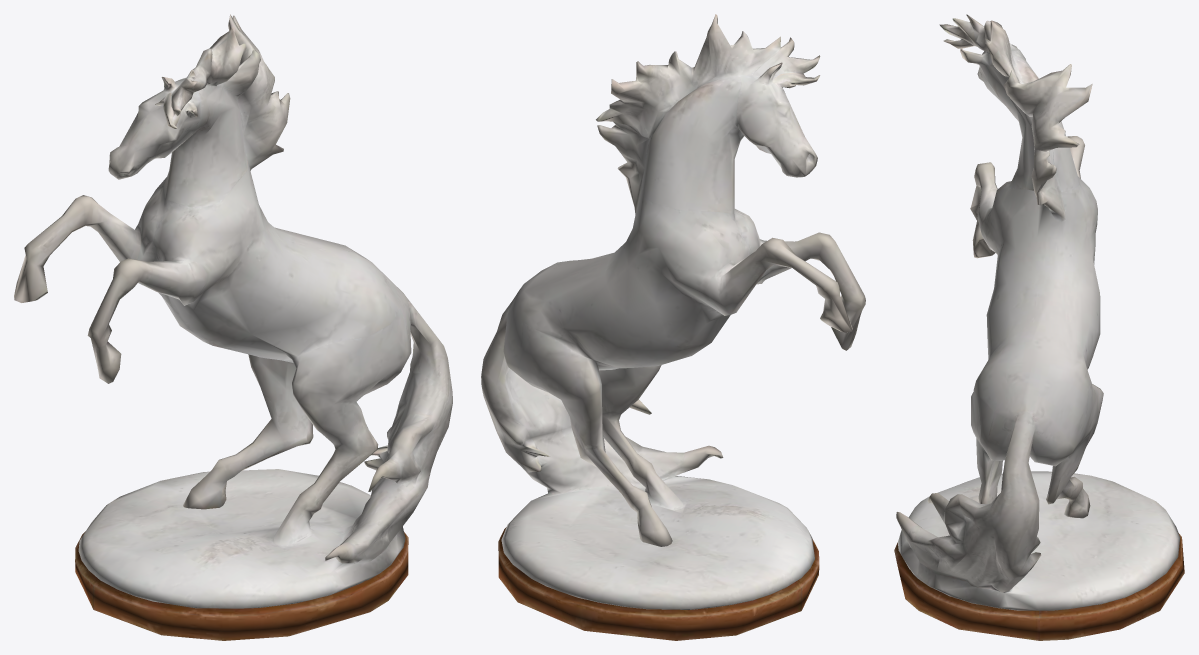
File: ph_horse_statue_01.glb
The picture shows the model from 3 angles, left to right: view 1: azimuth 30°, elevation 25°; view 2: azimuth 150°, elevation 25°; view 3: azimuth 270°, elevation 25°; orthographic projection. The views are drawn at different scales.
Parts seen in each view (by area): view 1: horse_statue_01; view 2: horse_statue_01; view 3: horse_statue_01.
Boxes of the visible parts, <box> form: horse_statue_01: <box>14,14,452,640</box>; horse_statue_01: <box>481,14,865,640</box>; horse_statue_01: <box>894,14,1184,640</box>.
Bounding box in the file's own units: 0.1635 × 0.22 × 0.1078.
1 material, 1 textured.
